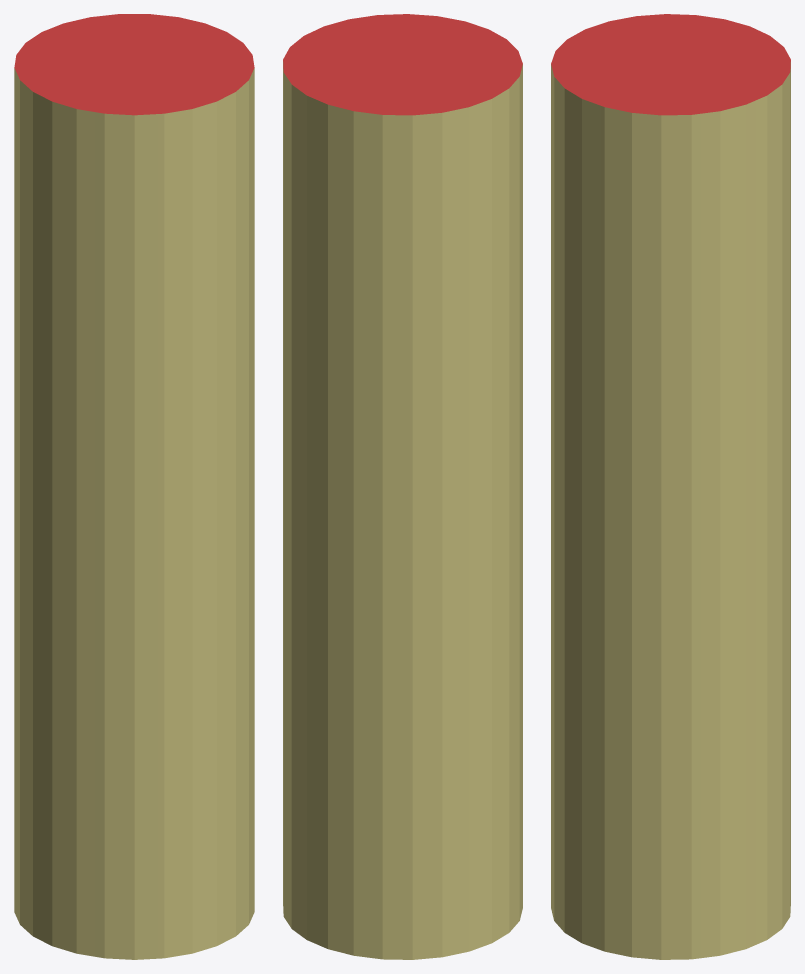
3 views of the same model, side by side, from view 1: azimuth 30°, elevation 25°; view 2: azimuth 150°, elevation 25°; view 3: azimuth 270°, elevation 25° (orthographic).
Size of the model in its own units: 3.41 by 3.41 by 13.25.
